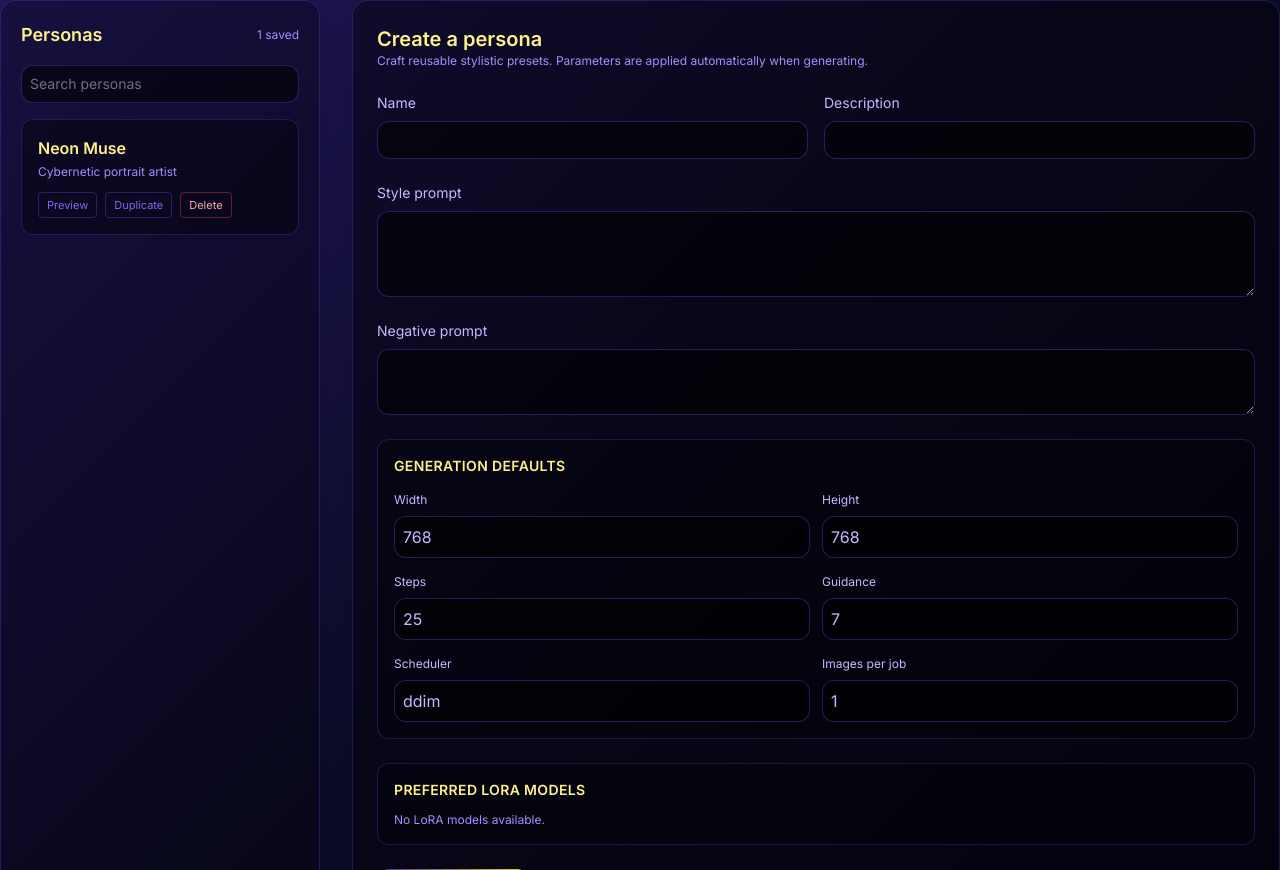
PersonaManager preview workflow › launches a preview job and surfaces the job details
What coordinates should you click on to do the following:
click the button "Preview"
I would click on:
 (68, 205)
Its box is [38, 192, 97, 218].
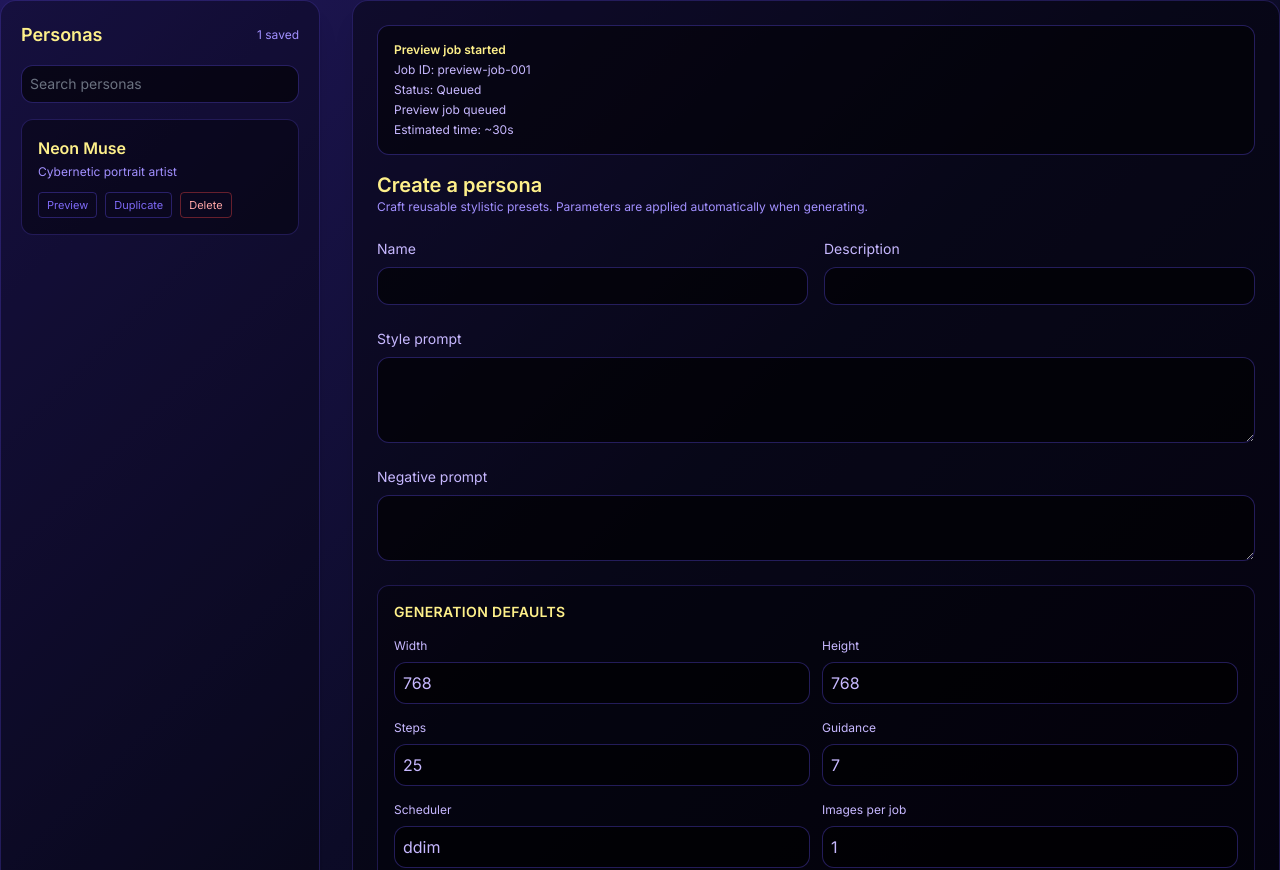
Expected: the text "Preview job started" is shown, [394, 42, 506, 57]
Expected: the text "Job ID: preview-job-001" is shown, [394, 62, 531, 77]
Expected: the text "Estimated time: ~30s" is shown, [394, 122, 514, 137]
